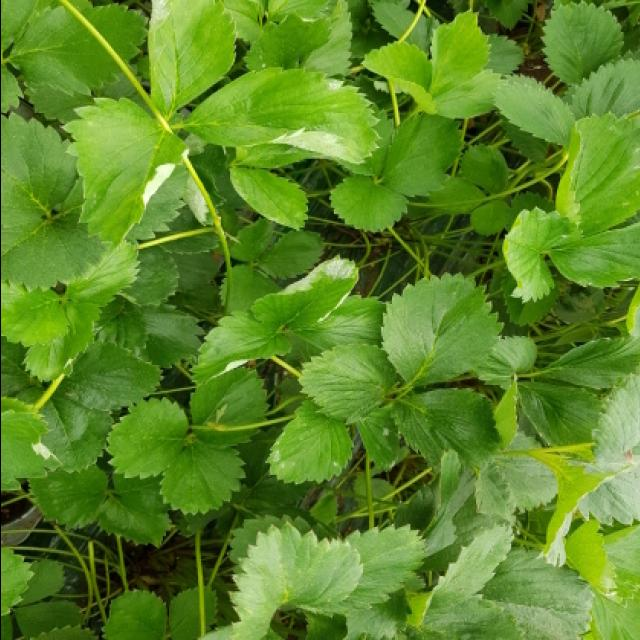Powdery Mildew Leaf: (59, 94, 190, 251), (179, 65, 383, 165), (146, 2, 238, 118), (252, 250, 360, 333), (186, 308, 292, 386), (2, 408, 61, 492), (182, 159, 228, 228)
